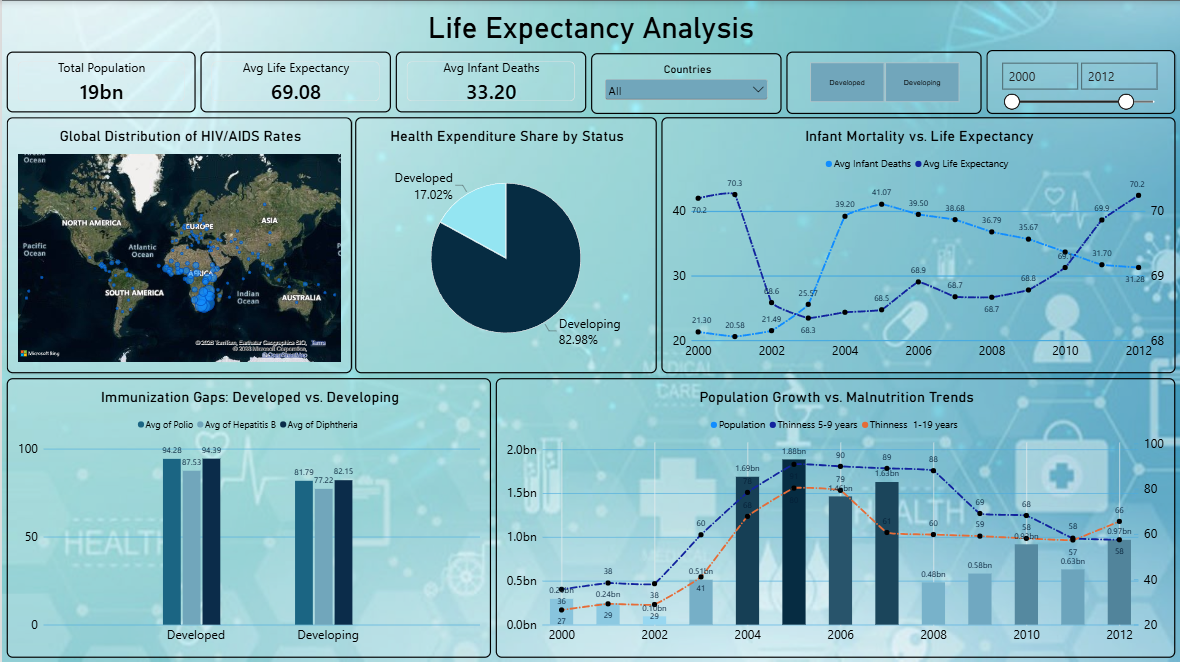

The page's visual inventory and layout, read from the dashboard file:
{"tool":"powerbi","page":{"name":"Page 1","canvas":[1920,1080],"ordinal":0},"visuals":[{"type":"lineClusteredColumnComboChart","title":"Population Growth vs. Malnutrition Trends","fields":{"Y":["Sum(expectancy life_expectancy_data.Population)"],"Y2":["Sum(expectancy life_expectancy_data.thinness 5-9 years)","Sum(expectancy life_expectancy_data.thinness  1-19 years)"],"Category":["expectancy life_expectancy_data.Year"]},"box":[804.5,616.1,1107.4,455.7],"z":0},{"type":"clusteredColumnChart","title":"Immunization Gaps: Developed vs. Developing","fields":{"Category":["expectancy life_expectancy_data.Status"],"Y":["Avg(expectancy life_expectancy_data.Polio)","Avg(expectancy life_expectancy_data.Hepatitis B)","Avg(expectancy life_expectancy_data.Diphtheria)"]},"box":[7.6,616.1,789.2,455.7],"z":1000},{"type":"lineChart","title":"Infant Mortality vs. Life Expectancy","fields":{"Category":["expectancy life_expectancy_data.Year"],"Y2":["Avg(expectancy life_expectancy_data.Life expectancy)"],"Y":["Avg(expectancy life_expectancy_data.infant deaths)"]},"box":[1074.3,117.1,837.6,491.3],"z":2000},{"type":"pieChart","title":"Health Expenditure Share by Status","fields":{"Category":["expectancy life_expectancy_data.Status"],"Y":["Sum(expectancy life_expectancy_data.Total expenditure)"]},"box":[575.3,117.1,491.3,491.3],"z":3000},{"type":"map","title":"Global Distribution of HIV/AIDS Rates","fields":{"Category":["expectancy life_expectancy_data.Country"],"Size":["Avg(expectancy life_expectancy_data.HIV/AIDS)"]},"box":[7.6,117.1,562.6,491.3],"z":4000},{"type":"cardVisual","fields":{"Data":["Sum(expectancy life_expectancy_data.Population)"]},"box":[7.6,10.2,308,99.3],"z":5000},{"type":"cardVisual","fields":{"Data":["Avg(expectancy life_expectancy_data.Life expectancy)"]},"box":[323.3,10.2,310.6,99.3],"z":6000},{"type":"cardVisual","fields":{"Data":["Avg(expectancy life_expectancy_data.infant deaths)"]},"box":[641.5,7.6,310.6,99.3],"z":7000},{"type":"slicer","title":"Countries","fields":{"Values":["expectancy life_expectancy_data.Country"]},"box":[959.8,7.6,310.6,99.3],"z":8000},{"type":"slicer","fields":{"Values":["expectancy life_expectancy_data.Status"]},"box":[1278,7.6,318.2,99.3],"z":9000},{"type":"slicer","fields":{"Values":["expectancy life_expectancy_data.Year"]},"box":[1603.8,7.6,308,101.8],"z":10000}]}

Visuals, with their boxes in screenshot pixels (x1, y1, x2, y2), scaled from the page's 1920x1080 canvas onto the 1180x662 screenshot:
"Population Growth vs. Malnutrition Trends" lineClusteredColumnComboChart: bbox=(494, 378, 1175, 657)
"Immunization Gaps: Developed vs. Developing" clusteredColumnChart: bbox=(5, 378, 490, 657)
"Infant Mortality vs. Life Expectancy" lineChart: bbox=(660, 72, 1175, 373)
"Health Expenditure Share by Status" pieChart: bbox=(354, 72, 656, 373)
"Global Distribution of HIV/AIDS Rates" map: bbox=(5, 72, 350, 373)
cardVisual - Sum(expectancy life_expectancy_data.Population): bbox=(5, 6, 194, 67)
cardVisual - Avg(expectancy life_expectancy_data.Life expectancy): bbox=(199, 6, 390, 67)
cardVisual - Avg(expectancy life_expectancy_data.infant deaths): bbox=(394, 5, 585, 66)
"Countries" slicer: bbox=(590, 5, 781, 66)
slicer - expectancy life_expectancy_data.Status: bbox=(785, 5, 981, 66)
slicer - expectancy life_expectancy_data.Year: bbox=(986, 5, 1175, 67)
